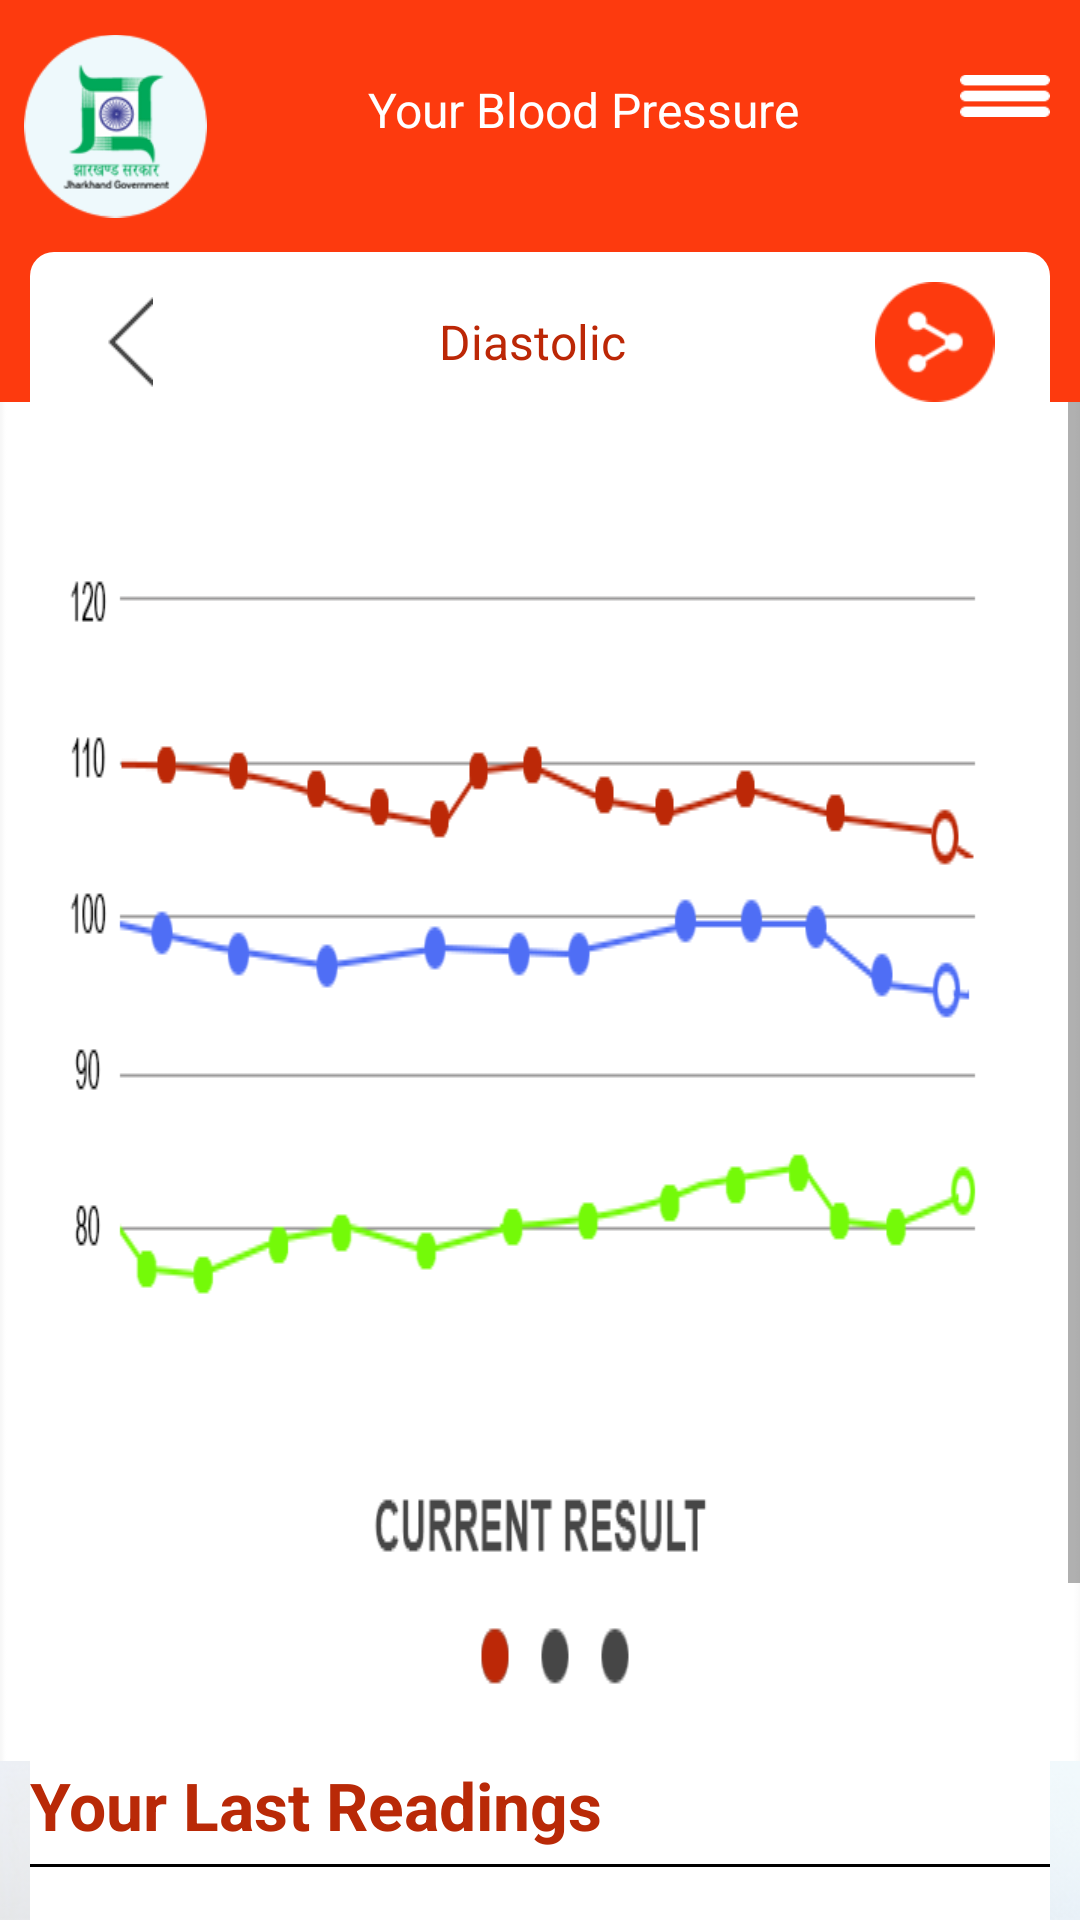

Icon bounding boxes for this 1080*1920 phone screenshot, format (x1,y1,x2,y2):
back: (108,297,153,387)
menu: (960,75,1050,117)
share: (875,282,995,402)
